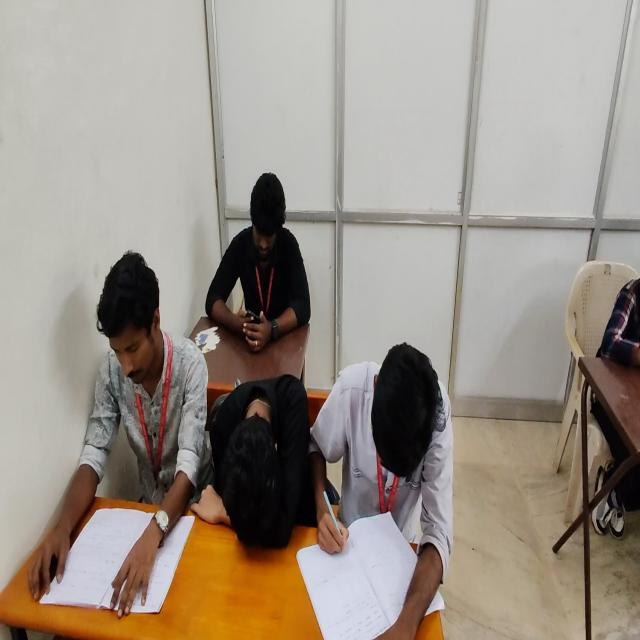reading: (21, 249, 210, 619)
sleeping: (191, 371, 320, 550)
using_mobile: (202, 170, 313, 360)
writing: (316, 346, 458, 640)
